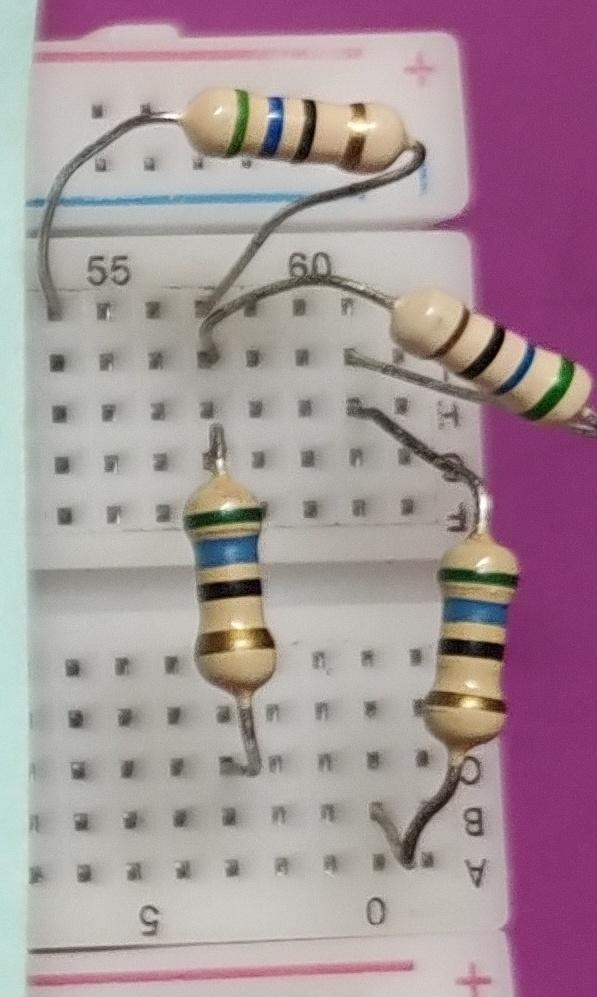resistor: (385, 281, 597, 432), (172, 465, 288, 725), (405, 531, 532, 756), (161, 85, 443, 180)
